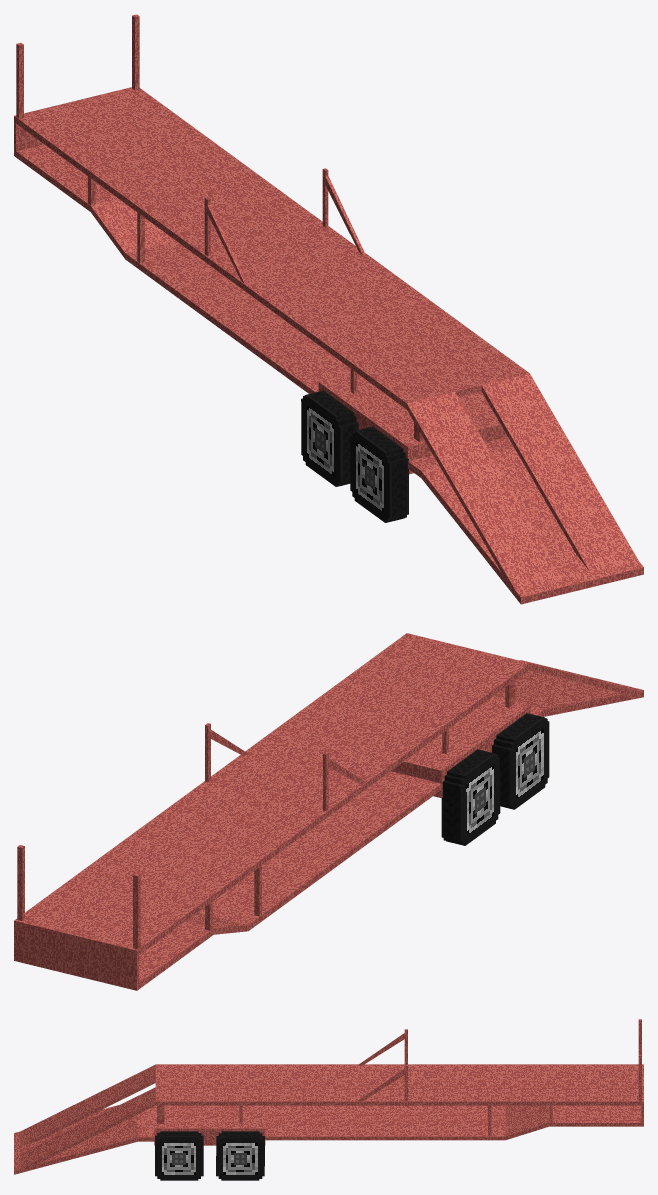
The model's file is BGN_TRUCK AUTO CARRIER.fbx.
The picture shows the model from 3 angles, top to bottom: view 1: azimuth 30°, elevation 25°; view 2: azimuth 150°, elevation 25°; view 3: azimuth 270°, elevation 25°; orthographic projection. The views are drawn at different scales.
Visible parts, largest first — view 1: BGN_TRUCK_AUTO_CARRIER; view 2: BGN_TRUCK_AUTO_CARRIER; view 3: BGN_TRUCK_AUTO_CARRIER.
Part boxes in pixels (x1=…): BGN_TRUCK_AUTO_CARRIER: x1=14, y1=14, x2=643, y2=604; BGN_TRUCK_AUTO_CARRIER: x1=14, y1=633, x2=643, y2=990; BGN_TRUCK_AUTO_CARRIER: x1=14, y1=1019, x2=643, y2=1180.
Size of the model in its own units: 262 by 298 by 1435.
